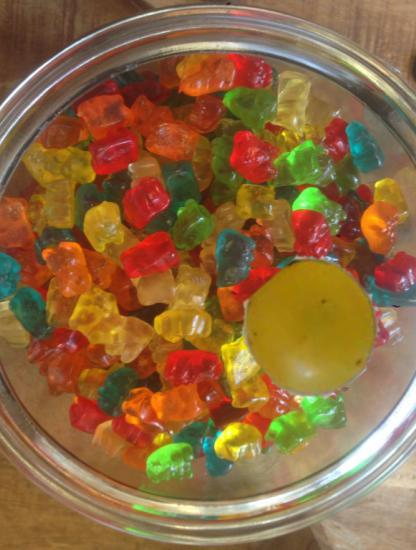Grape: (245, 260, 381, 396)
